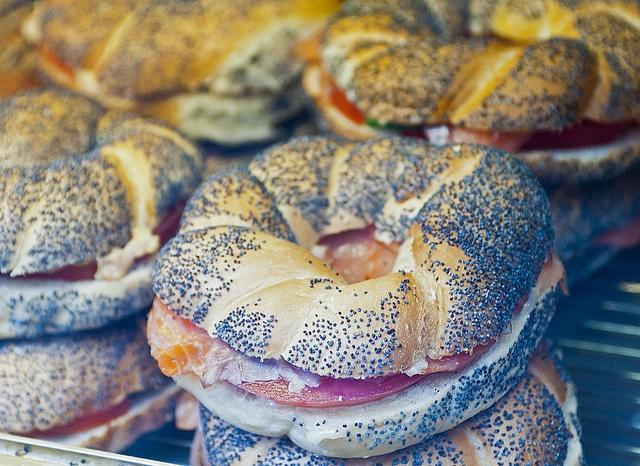tomato: (0, 200, 187, 282), (400, 120, 640, 151), (237, 374, 427, 408), (16, 396, 130, 438), (36, 39, 74, 82), (332, 86, 364, 124)
